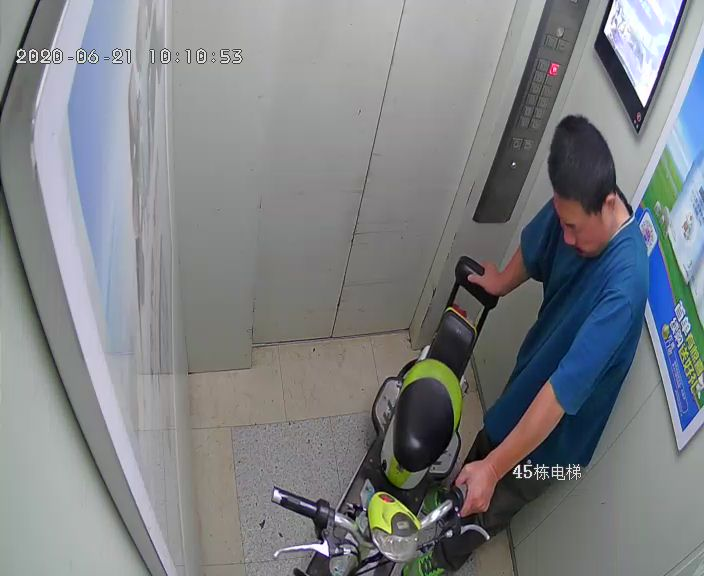Electric-bicycle: (273, 258, 496, 573)
